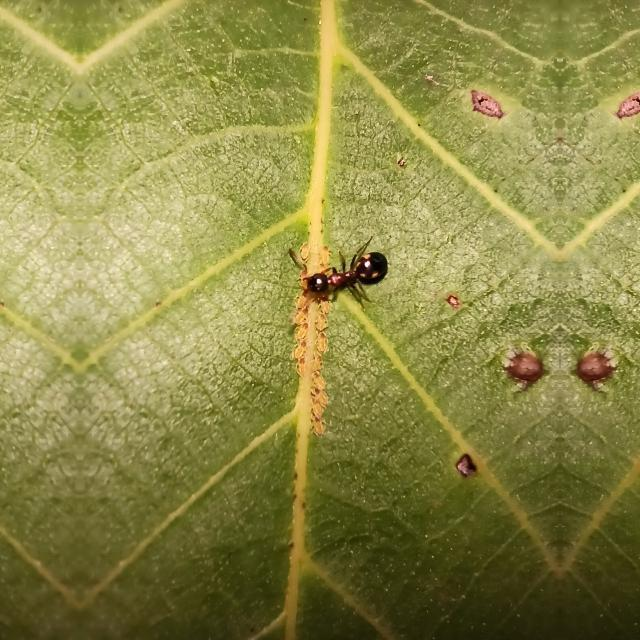Dolichoderus: (292, 234, 392, 316)
